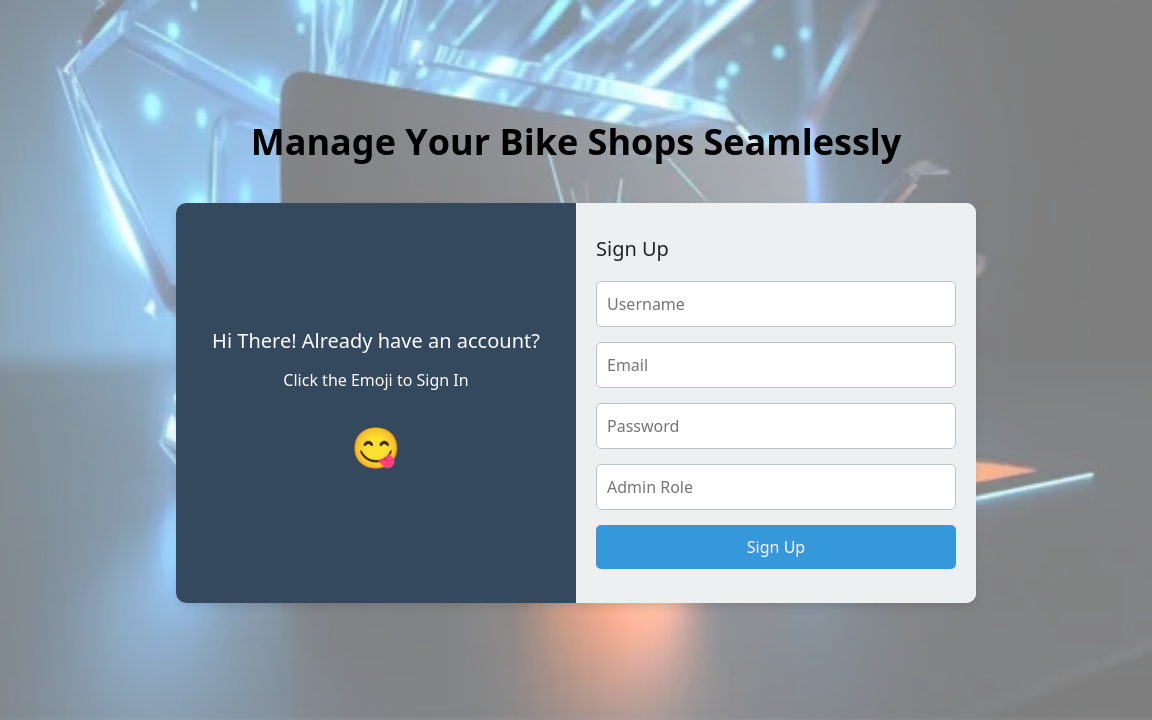
Test case: Admin Login Page › toggles to sign up form when emoji is clicked
Check: the heading "Sign Up" is shown, box [596,235,669,262]
Click the element with class "emoji".
click(376, 447)  # box [351,417,401,477]
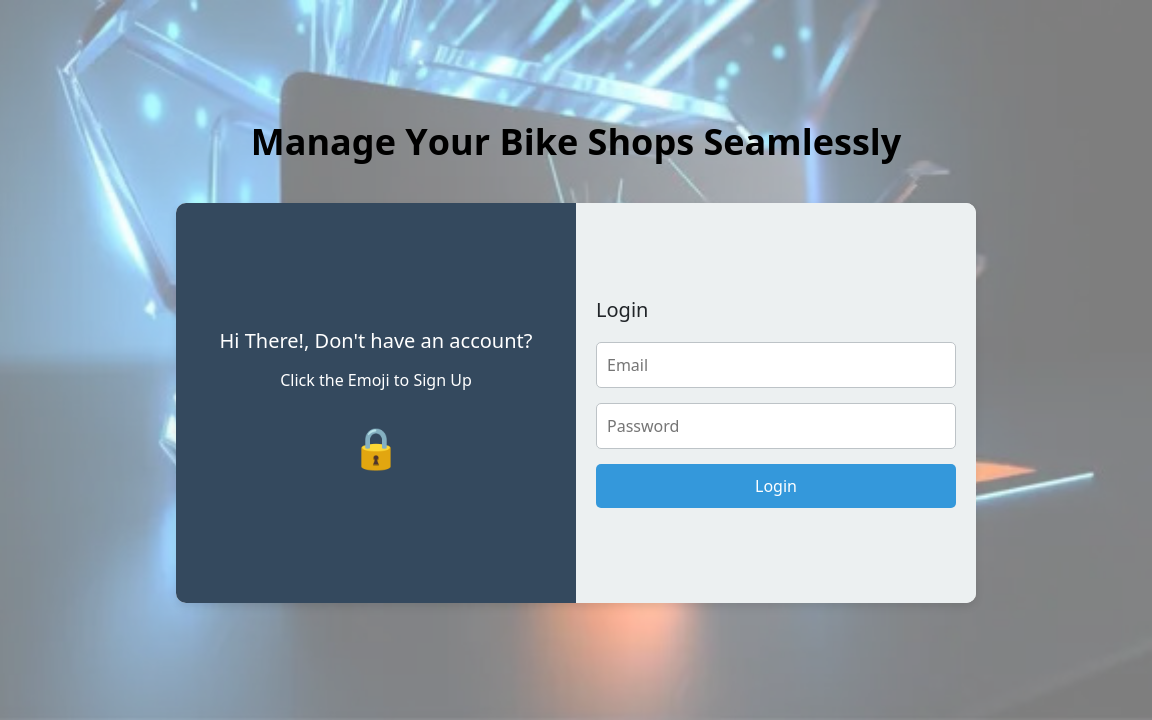
Check: the heading "Login" is shown, box [596,296,648,323]
Click the element with class "emoji".
click(376, 447)  # box [351,417,401,477]
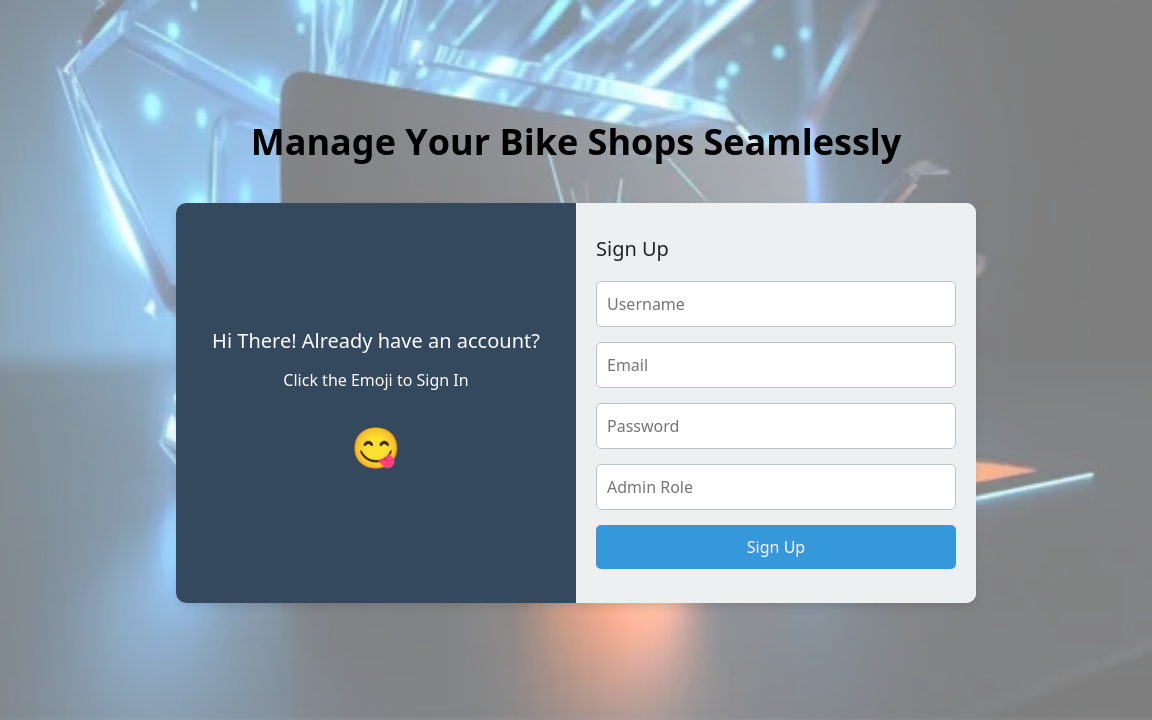
Check: the heading "Sign Up" is shown, box [596,235,669,262]
